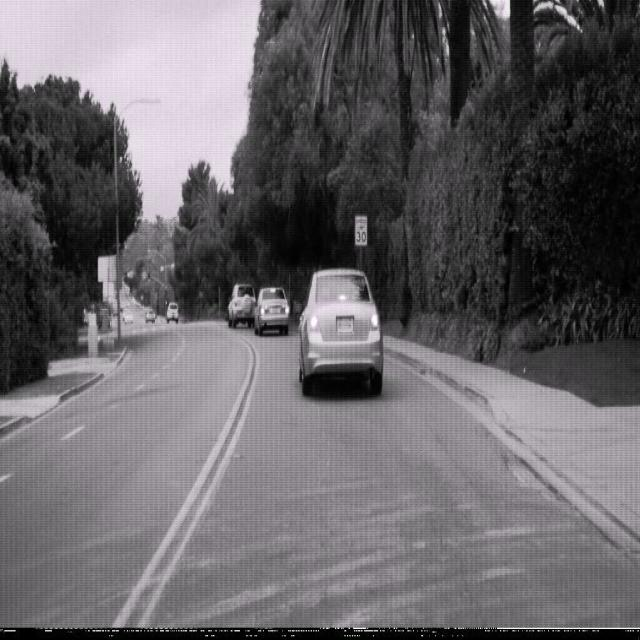speedLimit30: (354, 213, 368, 246)
